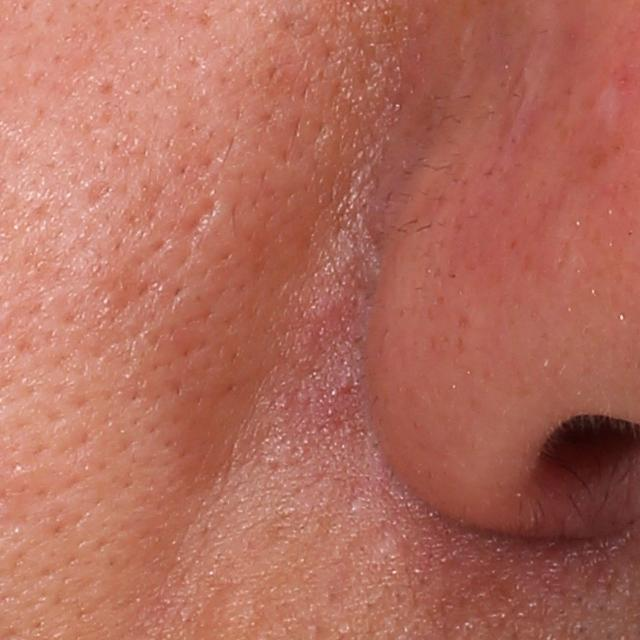atrophic_scar: (462, 3, 560, 141), (180, 193, 222, 235), (82, 176, 114, 209)
